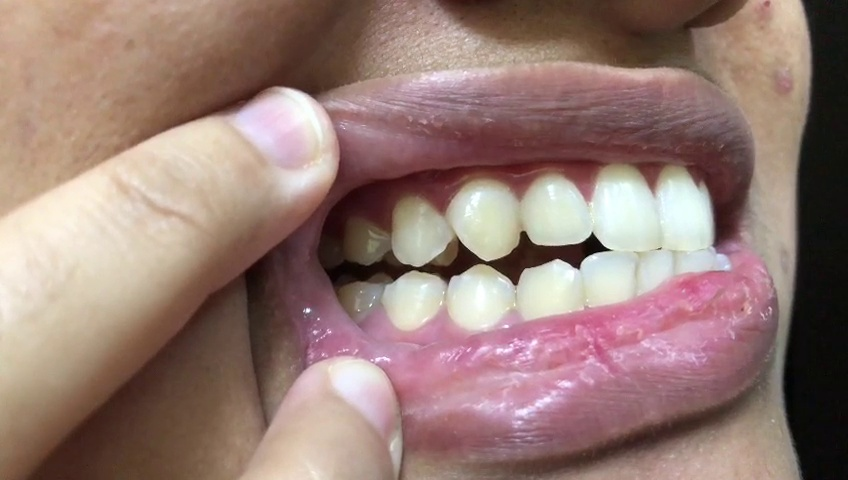1st Molar: (336, 274, 382, 324)
1st Premolar: (447, 263, 516, 334), (391, 195, 454, 267)
2nd Premolar: (383, 271, 447, 330), (340, 207, 391, 265)
Canine: (446, 177, 522, 262), (515, 260, 585, 323)
Central Incisor: (591, 161, 664, 254), (656, 160, 712, 252)
Lateral Incisor: (521, 172, 593, 244), (582, 248, 639, 314)
